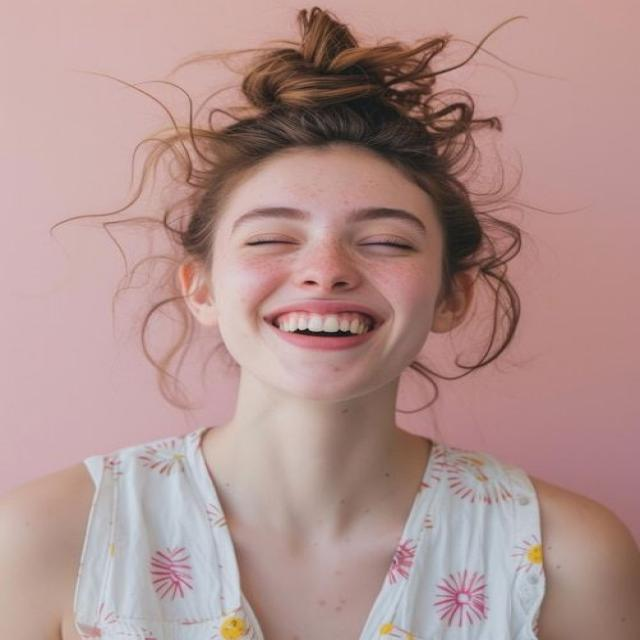sem_oculos: (157, 185, 517, 278)
